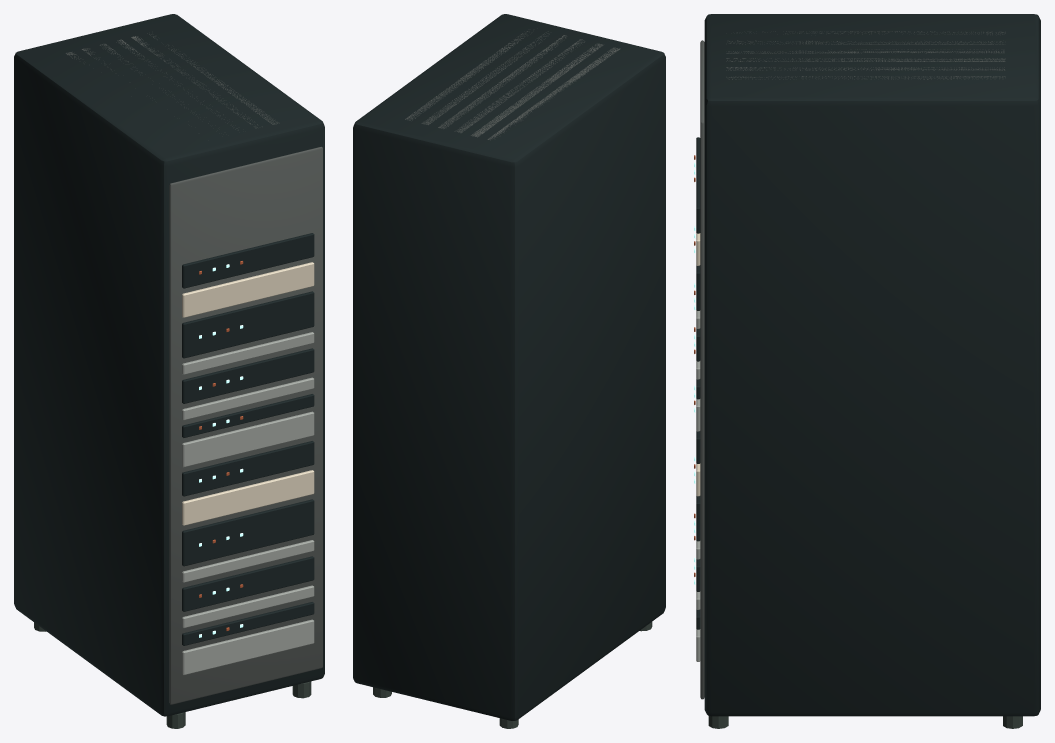
File: rack_42u.glb
The picture shows the model from 3 angles, left to right: view 1: azimuth 30°, elevation 25°; view 2: azimuth 150°, elevation 25°; view 3: azimuth 270°, elevation 25°; orthographic projection. The views are drawn at different scales.
Parts seen in each view (by area): view 1: FURN-rack_42u; view 2: FURN-rack_42u; view 3: FURN-rack_42u.
Boxes of the visible parts, x1,y1,x2,y2 form: FURN-rack_42u: (14,14,324,728); FURN-rack_42u: (353,14,665,728); FURN-rack_42u: (694,14,1040,728).
Size of the model in its own units: 0.6 by 2 by 0.99.
